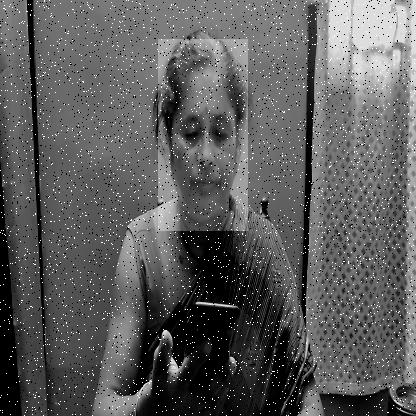Distracted: (158, 39, 248, 231)
